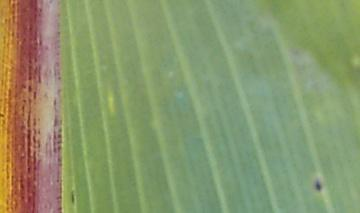tarspot: (314, 178, 323, 193), (70, 191, 76, 204)
